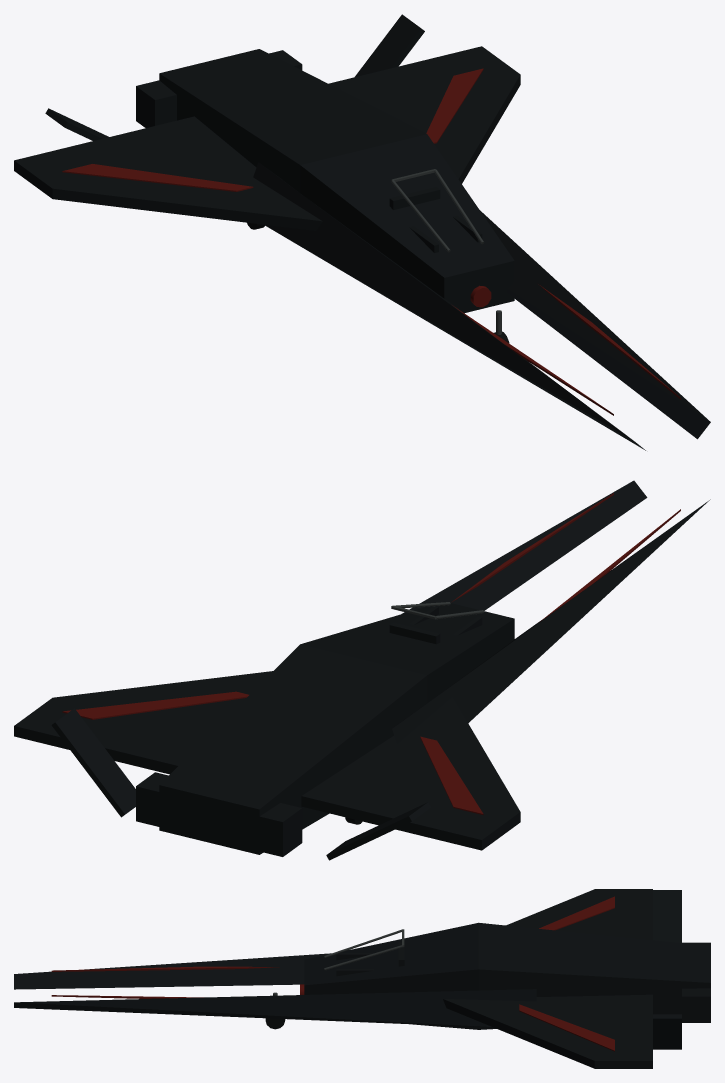
3 renders of one model, top to bottom at view 1: azimuth 30°, elevation 25°; view 2: azimuth 150°, elevation 25°; view 3: azimuth 270°, elevation 25°, orthographic. The views are drawn at different scales.
Parts seen in each view (by area): view 1: mothership-fighter-painted, flap-right-painted, mothership-canopy-painted; view 2: mothership-fighter-painted, flap-right-painted, flap-left-painted; view 3: mothership-fighter-painted, flap-left-painted, flap-right-painted, mothership-canopy-painted.
Boxes of the visible parts, left/top/right/bottom form: mothership-fighter-painted: left=14, top=46, right=710, bottom=450; flap-right-painted: left=355, top=14, right=424, bottom=76; mothership-canopy-painted: left=391, top=169, right=484, bottom=252; mothership-fighter-painted: left=14, top=480, right=710, bottom=856; flap-right-painted: left=51, top=708, right=135, bottom=817; flap-left-painted: left=326, top=802, right=430, bottom=860; mothership-fighter-painted: left=14, top=889, right=710, bottom=1068; flap-left-painted: left=653, top=890, right=681, bottom=942; flap-right-painted: left=653, top=1014, right=681, bottom=1049; mothership-canopy-painted: left=324, top=929, right=404, bottom=970.
Size of the model in its own units: 73.68 by 18.12 by 126.
